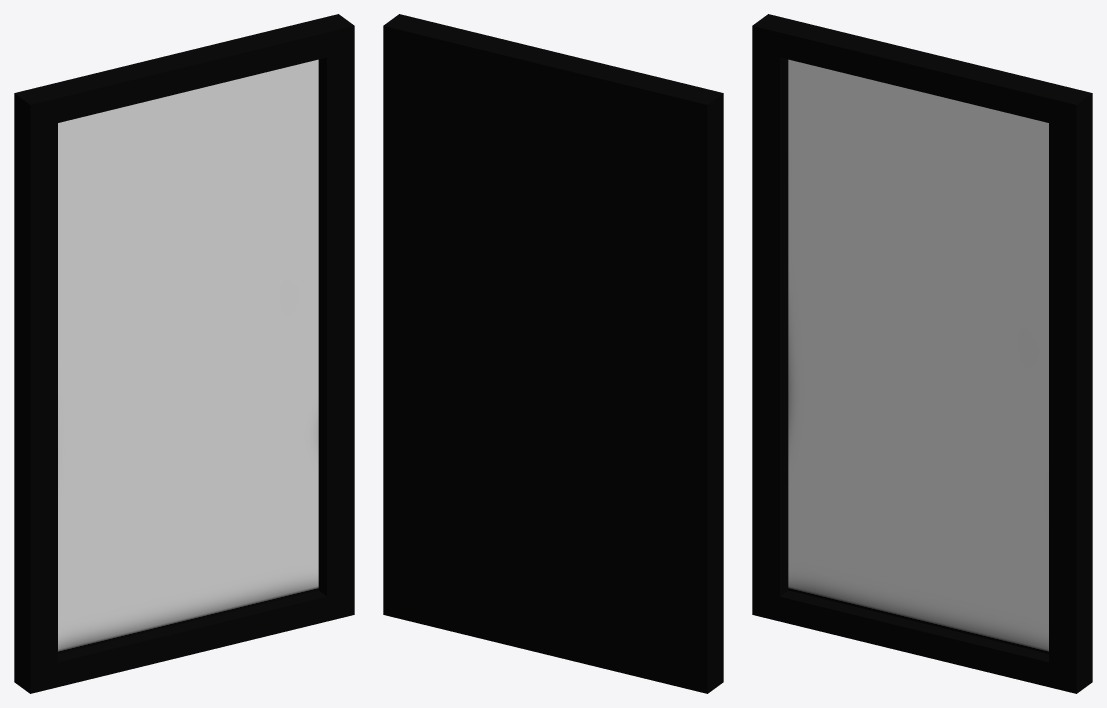
Rendered from Mirror.fbx.
3 renders of one model, left to right at view 1: azimuth 30°, elevation 25°; view 2: azimuth 150°, elevation 25°; view 3: azimuth 330°, elevation 25°, orthographic.
Parts seen in each view (by area): view 1: Cube; view 2: Cube; view 3: Cube.
Boxes of the visible parts, x1,y1,x2,y2 form: Cube: (14, 14, 354, 693); Cube: (383, 14, 723, 693); Cube: (752, 14, 1092, 693).
Bounding box in the file's own units: 39.81 × 461 × 800.
